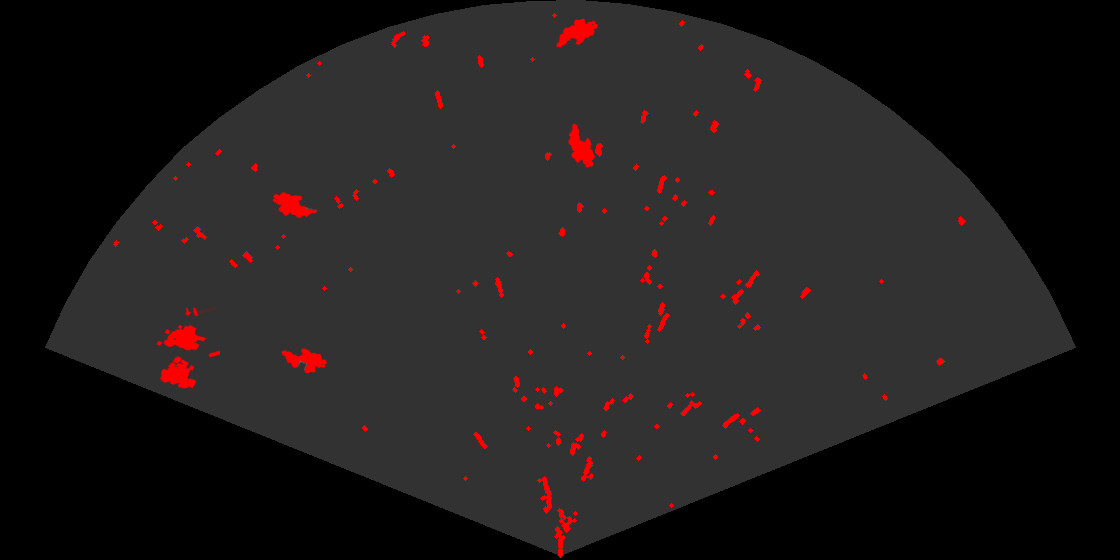AUV: (567, 122, 597, 170), (555, 17, 599, 49), (271, 191, 319, 220), (280, 347, 329, 375)
cage: (155, 308, 220, 390)
